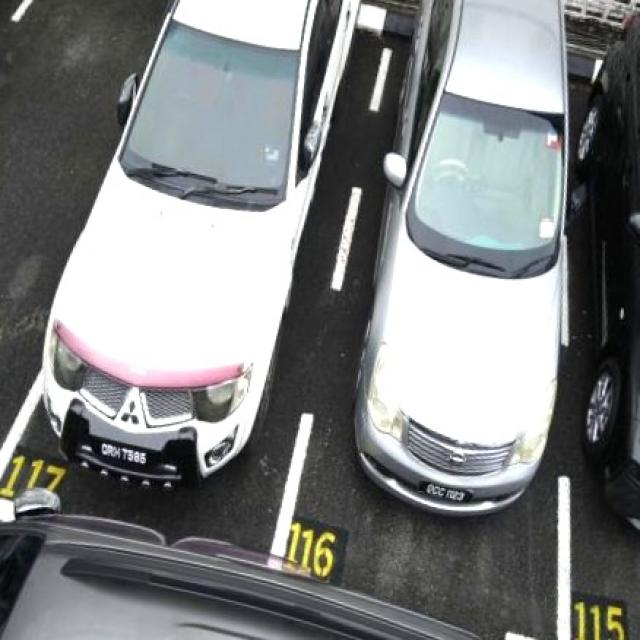Legalparking: (44, 0, 359, 484), (354, 0, 568, 513)
